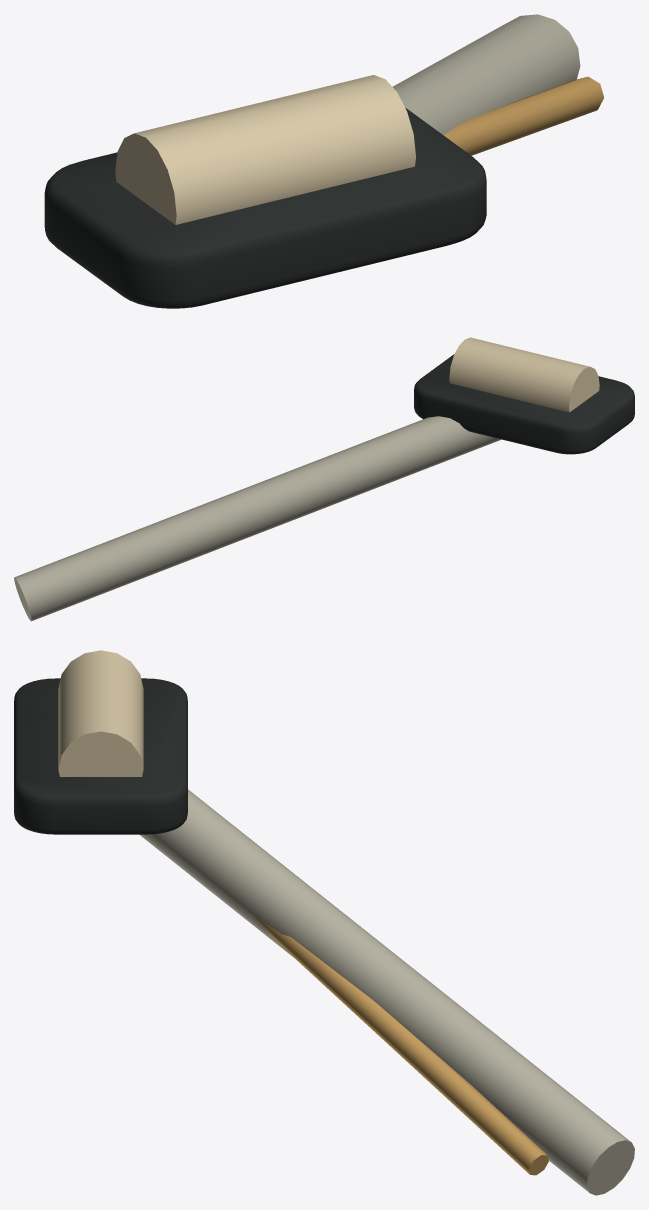
The model's file is Foundry.glb.
The picture shows the model from 3 angles, top to bottom: view 1: azimuth 30°, elevation 25°; view 2: azimuth 150°, elevation 25°; view 3: azimuth 270°, elevation 25°; orthographic projection. The views are drawn at different scales.
Parts seen in each view (by area): view 1: Palm pad, Swivel grip, Return arm, Counter lever; view 2: Return arm, Palm pad, Swivel grip; view 3: Return arm, Palm pad, Swivel grip, Counter lever.
Part boxes in pixels (bbox=[...]): Palm pad: bbox=[44, 108, 486, 308]; Swivel grip: bbox=[115, 75, 415, 224]; Return arm: bbox=[393, 14, 580, 134]; Counter lever: bbox=[443, 76, 604, 155]; Return arm: bbox=[14, 416, 501, 621]; Palm pad: bbox=[414, 354, 634, 454]; Swivel grip: bbox=[449, 337, 599, 412]; Return arm: bbox=[139, 789, 634, 1195]; Palm pad: bbox=[14, 678, 187, 834]; Swivel grip: bbox=[58, 650, 143, 776]; Counter lever: bbox=[254, 916, 548, 1175].
Size of the model in its own units: 1.13 by 0.5338 by 1.04.
